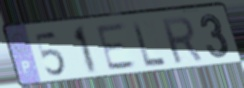1: (72, 24, 101, 78)
3: (199, 12, 230, 62)
5: (33, 30, 68, 78)
E: (94, 21, 140, 73)
L: (130, 19, 169, 69)
R: (158, 15, 205, 66)
